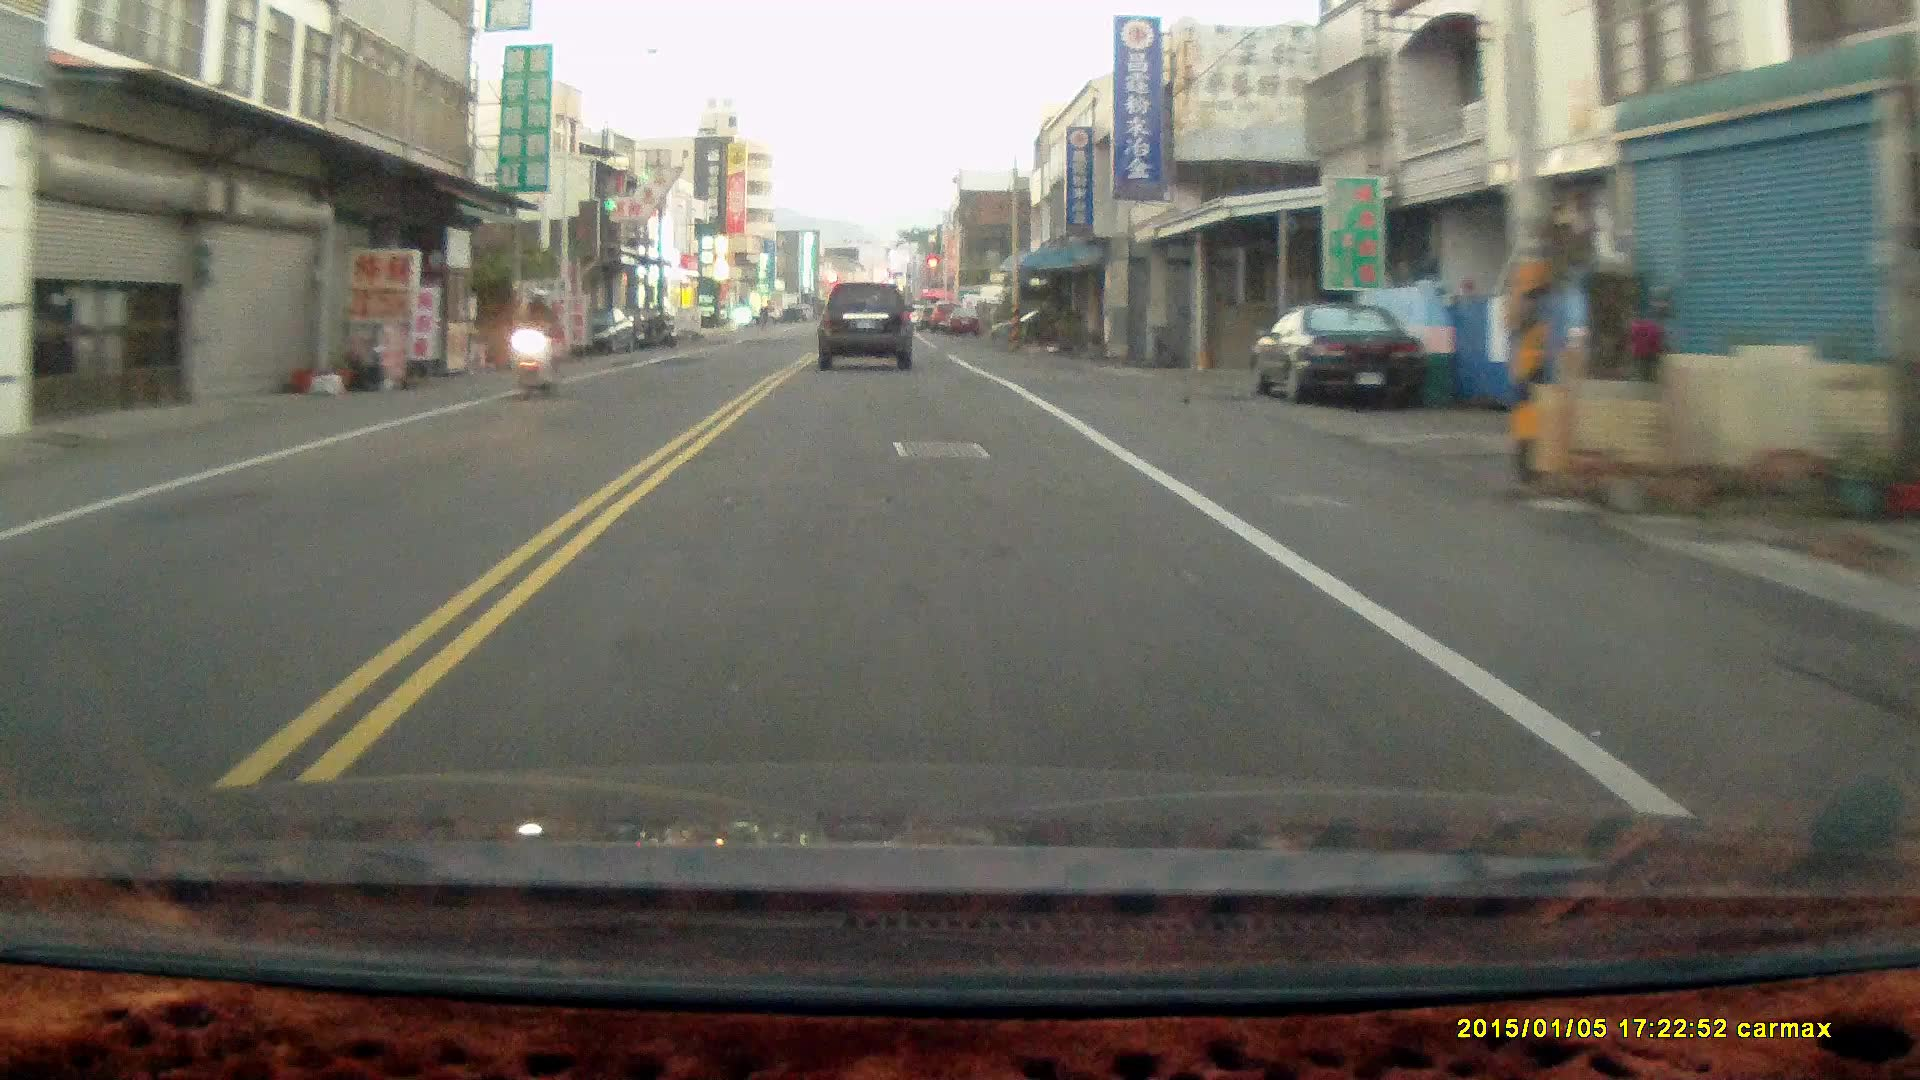rider: (504, 286, 561, 402)
vehicle: (1253, 302, 1433, 412), (818, 279, 915, 368)
